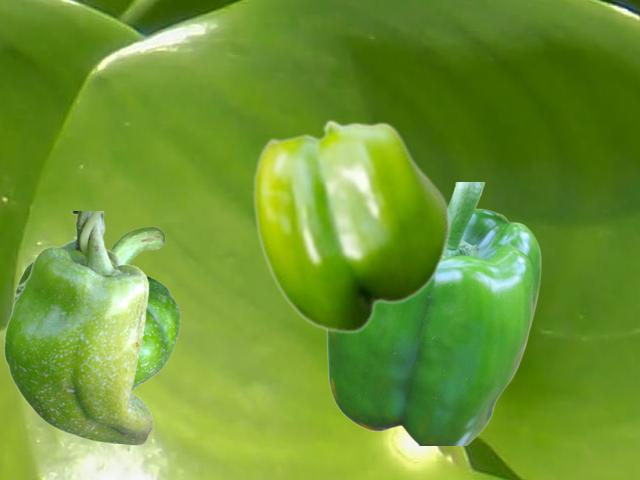bell_pepper: (326, 182, 540, 444), (253, 119, 450, 333), (3, 211, 152, 444), (14, 226, 179, 390)
